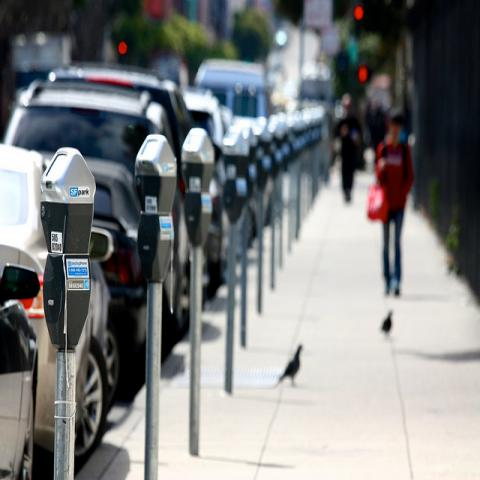car: (3, 78, 193, 353), (47, 59, 211, 324), (0, 142, 123, 462), (36, 152, 148, 402), (0, 263, 41, 480), (194, 55, 268, 121), (184, 82, 228, 150)
